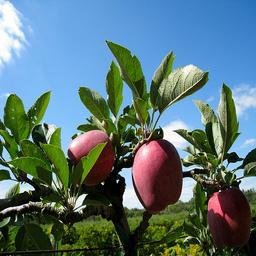apple: (131, 136, 182, 213), (206, 187, 251, 250), (67, 131, 114, 185)
